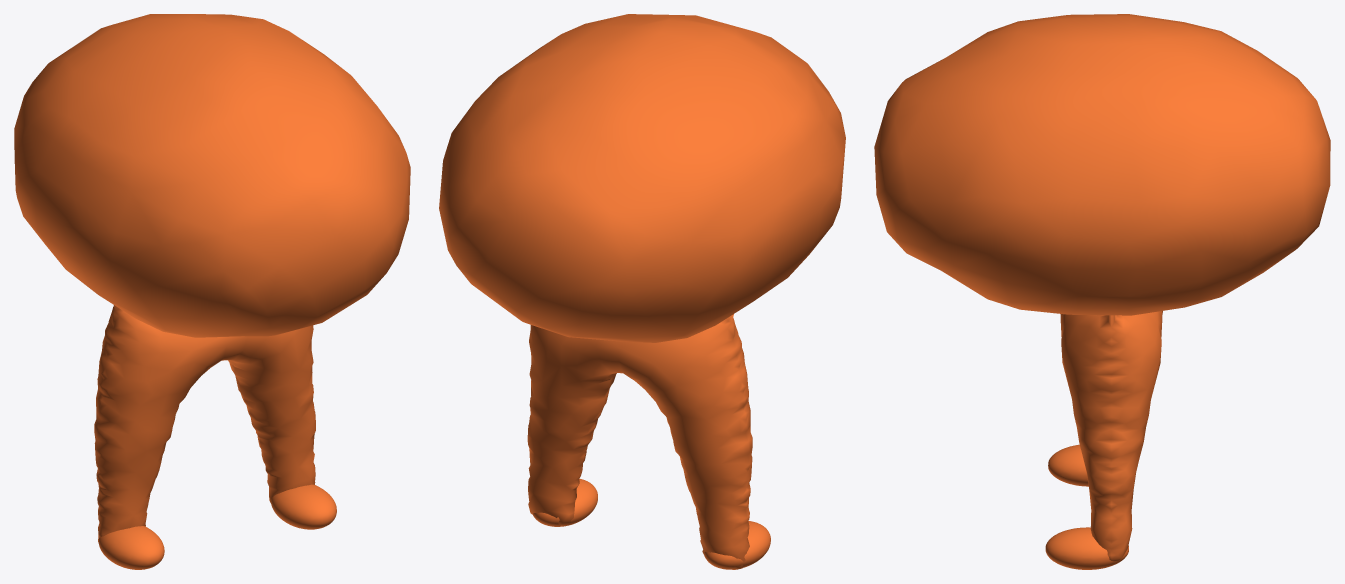
3 views of the same model, side by side, from view 1: azimuth 30°, elevation 25°; view 2: azimuth 150°, elevation 25°; view 3: azimuth 270°, elevation 25° (orthographic). The views are drawn at different scales.
Parts seen in each view (by area): view 1: メタボール.003; view 2: メタボール.003; view 3: メタボール.003.
Boxes of the visible parts, x1,y1,x2,y2 form: メタボール.003: [14, 14, 410, 569]; メタボール.003: [439, 14, 845, 569]; メタボール.003: [874, 14, 1330, 569].
Bounding box in the file's own units: 0.3822 × 0.5586 × 0.4686.
